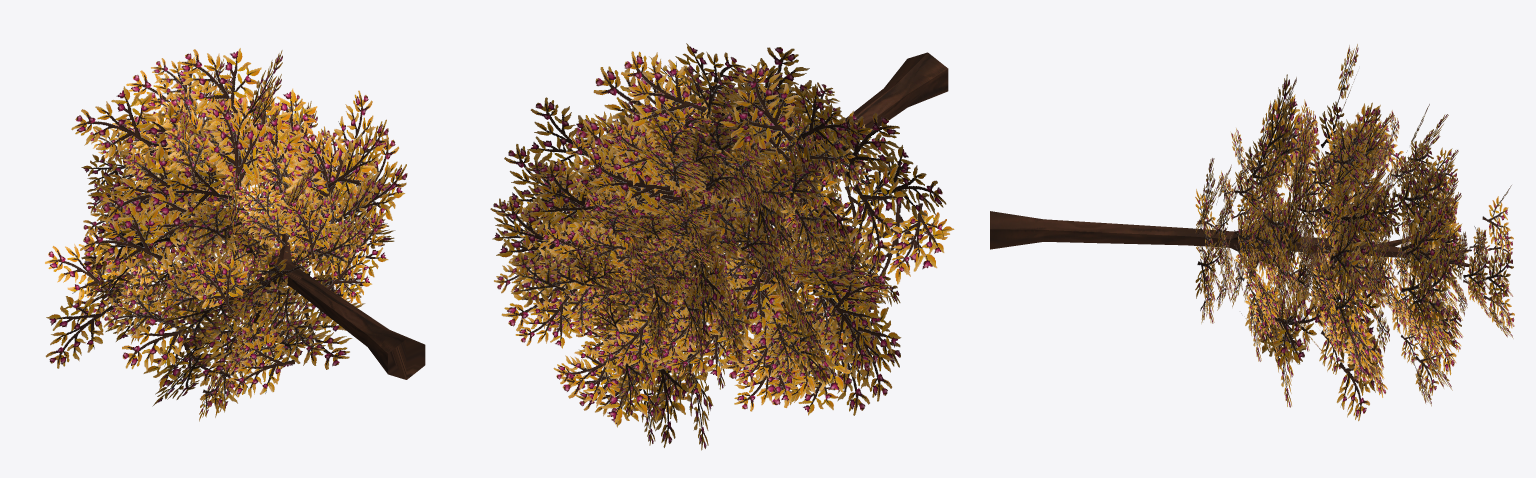
Rendered from yBTree.fbx.
3 renders of one model, left to right at view 1: azimuth 30°, elevation 25°; view 2: azimuth 150°, elevation 25°; view 3: azimuth 270°, elevation 25°, orthographic. The views are drawn at different scales.
Visible parts, largest first — view 1: Cylinder; view 2: Cylinder; view 3: Cylinder.
Part boxes in pixels (x1=…): Cylinder: x1=45, y1=48, x2=425, y2=421; Cylinder: x1=490, y1=43, x2=954, y2=450; Cylinder: x1=990, y1=44, x2=1514, y2=421.
Size of the model in its own units: 1316 by 1244 by 1557.
